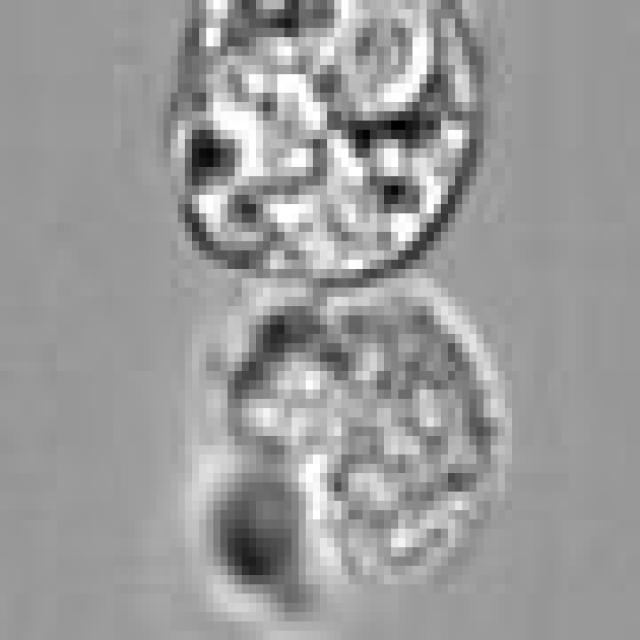Cancer Cell: (170, 10, 490, 278)
WBC: (235, 278, 512, 575)
